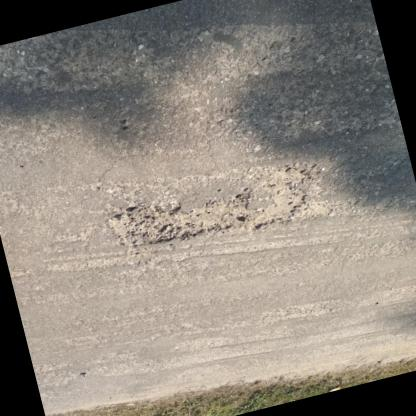pothole: (102, 163, 316, 268)
